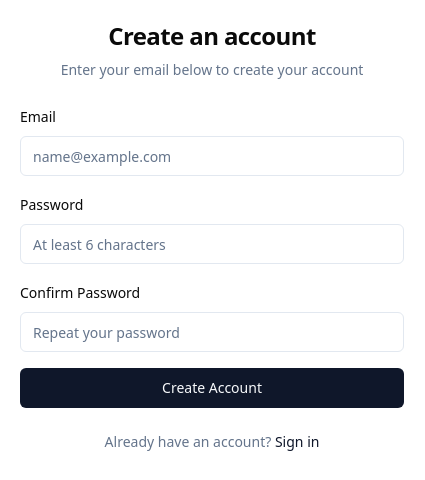
Register Page › shows validation error when passwords do not match
This screenshot has width=425, height=480.
Step 1. Type "test@example.com" into the field labelled "Email" → (212, 156), box [20, 136, 404, 176]
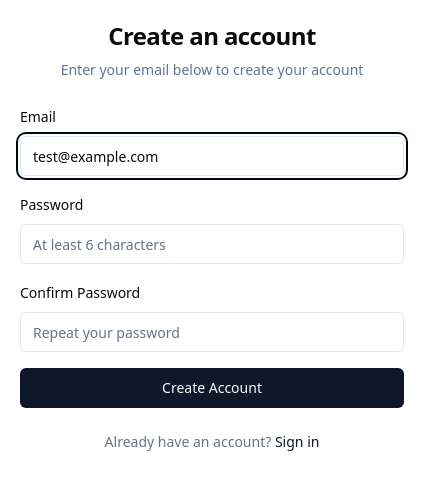
Step 2. Type "password123" into the password field labelled "Password" → (212, 244), box [20, 224, 404, 264]
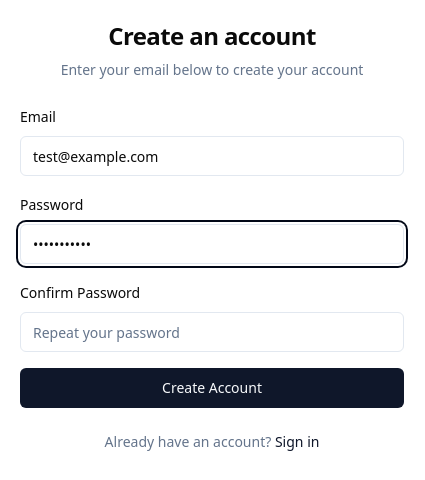
Step 3. Type "differentPass" into the password field labelled "Confirm Password" → (212, 332), box [20, 312, 404, 352]
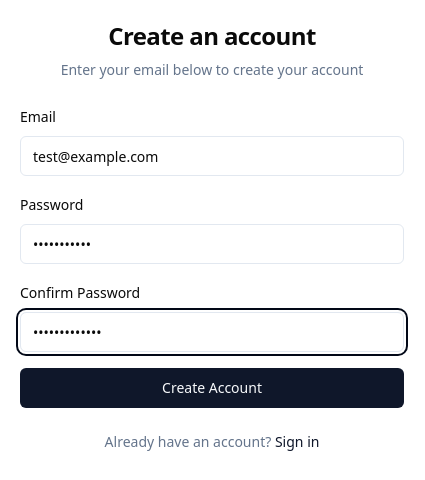
Step 4. Click the button "Create Account" → (212, 388), box [20, 368, 404, 408]
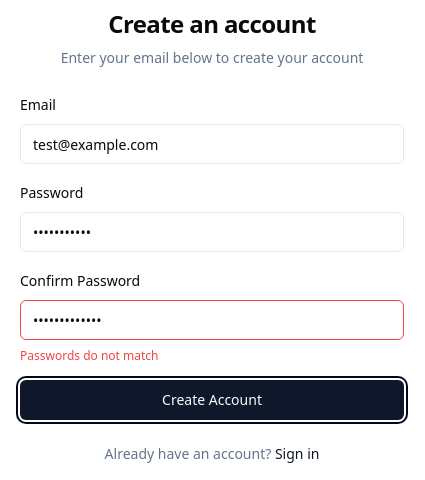
Now the text "Passwords do not match" is shown, box [20, 347, 158, 364]
